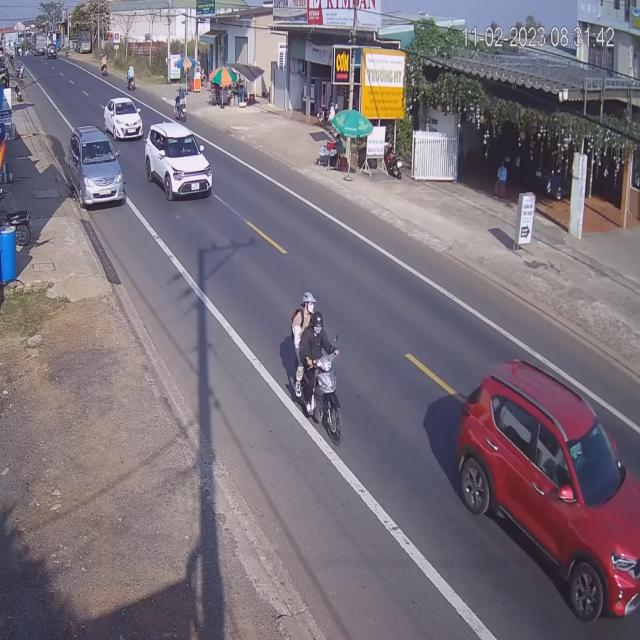car: (453, 353, 640, 626), (144, 120, 212, 202), (68, 128, 124, 210), (103, 96, 142, 143)
motorbike: (288, 290, 340, 444), (174, 89, 187, 124)
